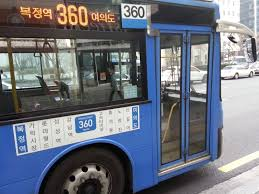entrance: (155, 28, 211, 166)
